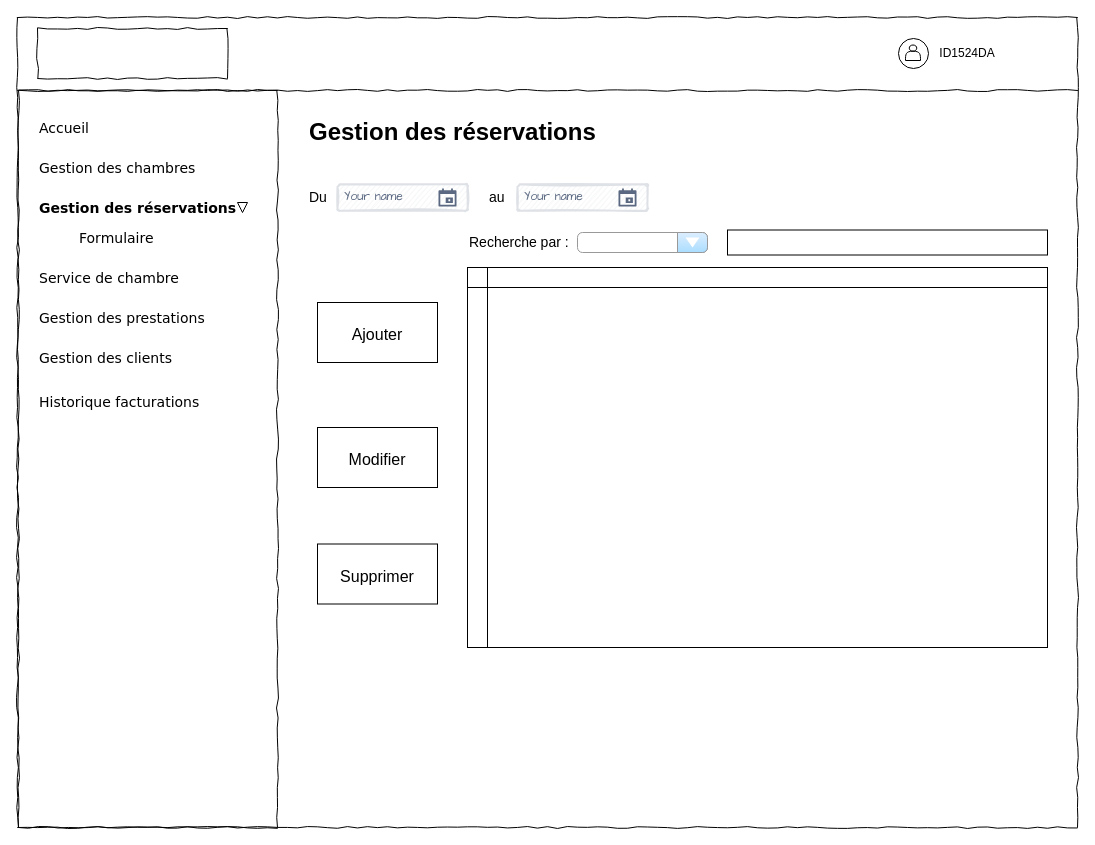
This 1095x845 diagram has some shape labels left out. Here are the shapes that lost their labels. From the top down, the centre of each, then its label:
At pixel 132 53: "LOGO".
At pixel 642 242: "Nom".
